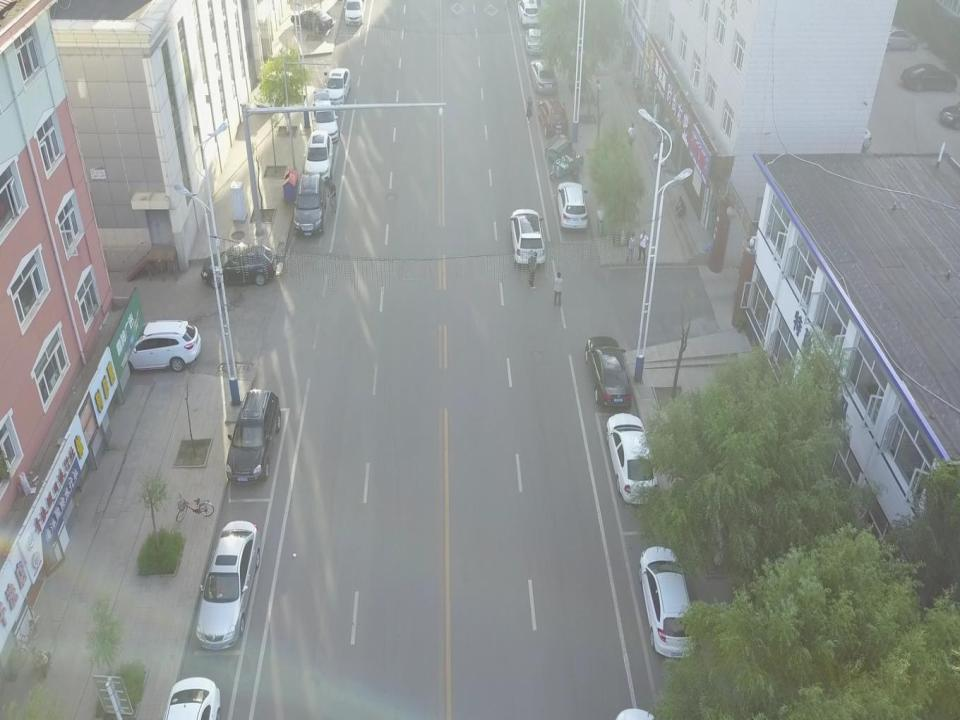car: (191, 508, 264, 656), (638, 535, 702, 671), (225, 391, 292, 490), (607, 410, 671, 511), (582, 324, 636, 414), (120, 315, 200, 375), (198, 242, 280, 293), (154, 668, 229, 720), (507, 207, 552, 266), (293, 171, 326, 239), (301, 128, 337, 183), (556, 179, 590, 233), (290, 2, 334, 38), (312, 89, 340, 143), (323, 62, 355, 108), (537, 97, 571, 135), (529, 56, 560, 95), (343, 0, 372, 29), (522, 26, 548, 57), (517, 0, 545, 24)
